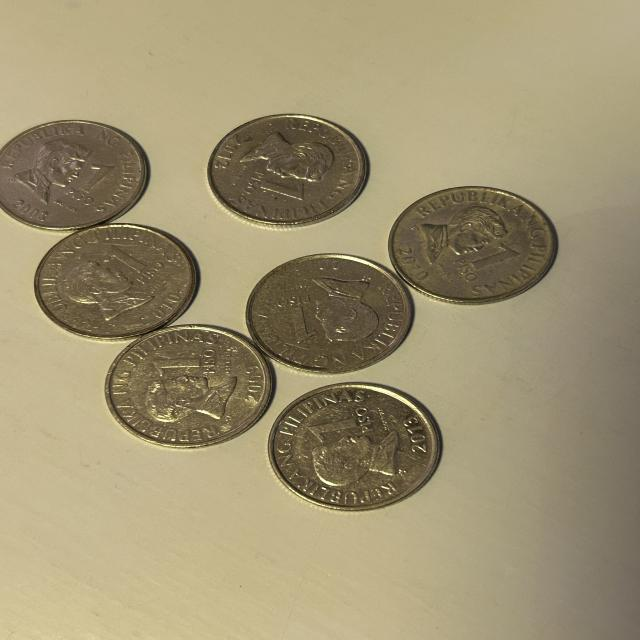1_Old_Front: (230, 164, 312, 212), (97, 243, 170, 293), (448, 240, 522, 288), (143, 346, 222, 389), (268, 289, 318, 353), (302, 406, 382, 446), (60, 161, 116, 207)
